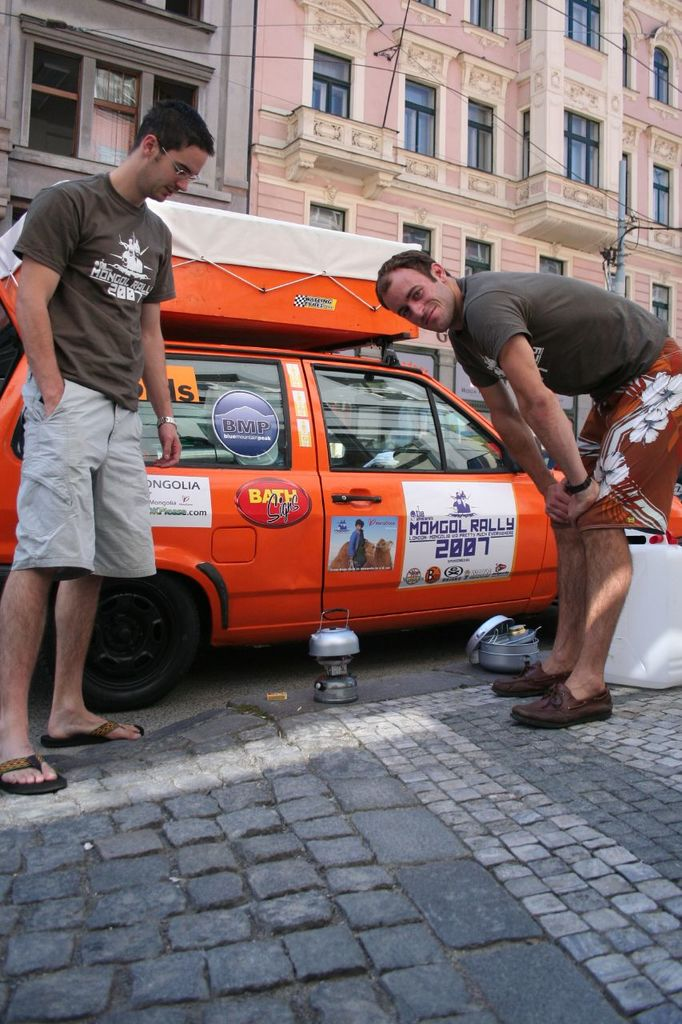Car: (0, 333, 681, 717)
